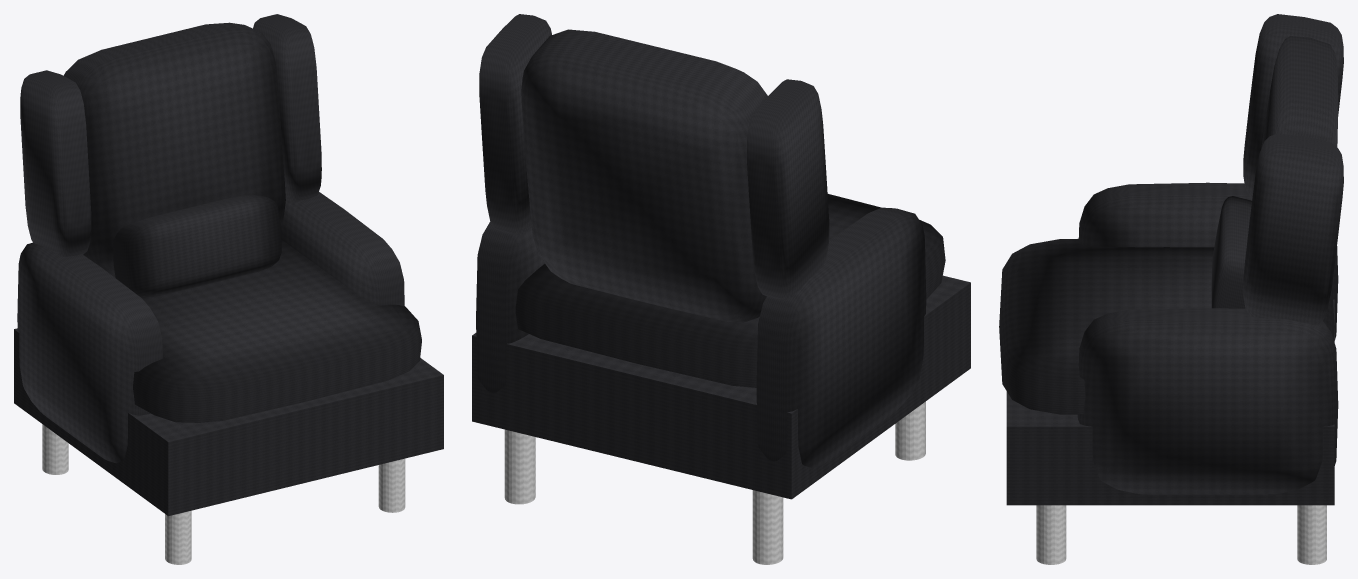
3 views of the same model, side by side, from view 1: azimuth 30°, elevation 25°; view 2: azimuth 150°, elevation 25°; view 3: azimuth 270°, elevation 25° (orthographic). The views are drawn at different scales.
Visible parts, largest first — view 1: 9 backrest, 6 seat_cushion, 5 seat_base, 7 armrest_left, 12 lumbar_pillow, 10 wing_left, 8 armrest_right, 11 wing_right, 2 leg_front_right, 1 leg_front_left, 3 leg_back_left; view 2: 9 backrest, 5 seat_base, 7 armrest_left, 6 seat_cushion, 10 wing_left, 11 wing_right, 8 armrest_right, 4 leg_back_right, 3 leg_back_left, 1 leg_front_left; view 3: 8 armrest_right, 6 seat_cushion, 11 wing_right, 5 seat_base, 7 armrest_left, 9 backrest, 10 wing_left, 12 lumbar_pillow, 2 leg_front_right, 4 leg_back_right.
Boxes of the visible parts, box(x1,y1,x2,y2) form: 9 backrest: box(63, 22, 285, 277); 6 seat_cushion: box(133, 240, 421, 422); 5 seat_base: box(14, 328, 443, 516); 7 armrest_left: box(17, 242, 162, 463); 12 lumbar_pillow: box(113, 195, 281, 298); 10 wing_left: box(20, 70, 91, 256); 8 armrest_right: box(281, 192, 404, 306); 11 wing_right: box(253, 14, 321, 202); 2 leg_front_right: box(378, 458, 405, 512); 1 leg_front_left: box(165, 510, 191, 564); 3 leg_back_left: box(42, 424, 68, 474); 9 backrest: box(521, 29, 767, 322); 5 seat_base: box(472, 275, 970, 499); 7 armrest_left: box(756, 207, 926, 467); 6 seat_cushion: box(515, 194, 945, 387); 10 wing_left: box(747, 79, 829, 299); 11 wing_right: box(479, 14, 551, 235); 8 armrest_right: box(476, 221, 544, 392); 4 leg_back_right: box(504, 429, 535, 504); 3 leg_back_left: box(752, 490, 783, 564); 1 leg_front_left: box(895, 401, 925, 460); 8 armrest_right: box(1077, 308, 1338, 494); 6 seat_cushion: box(999, 238, 1334, 414); 11 wing_right: box(1243, 133, 1343, 325); 5 seat_base: box(1006, 299, 1334, 505); 7 armrest_left: box(1078, 182, 1338, 340); 9 backrest: box(1261, 36, 1338, 148); 10 wing_left: box(1243, 14, 1343, 197); 12 lumbar_pillow: box(1211, 196, 1251, 308); 2 leg_front_right: box(1036, 505, 1066, 564); 4 leg_back_right: box(1297, 505, 1326, 564).
Bounding box in the file's own units: 0.722 × 1 × 0.722.
Materials: 2 (2 with a texture image).
